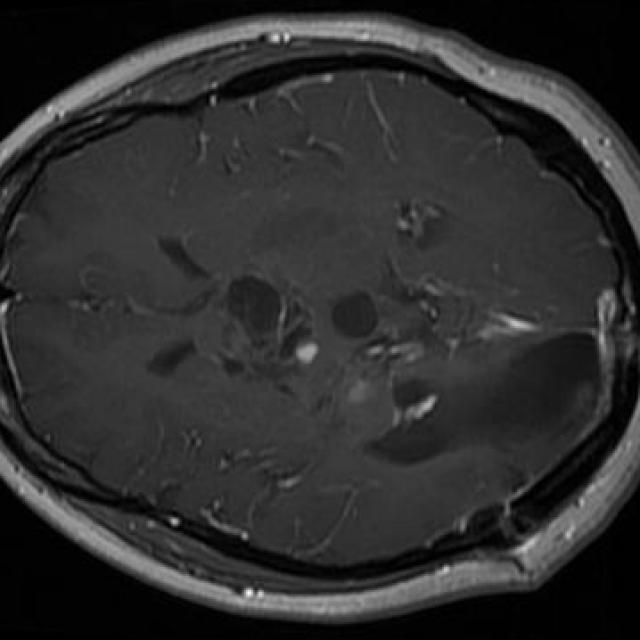glioma: (367, 273, 601, 462)
